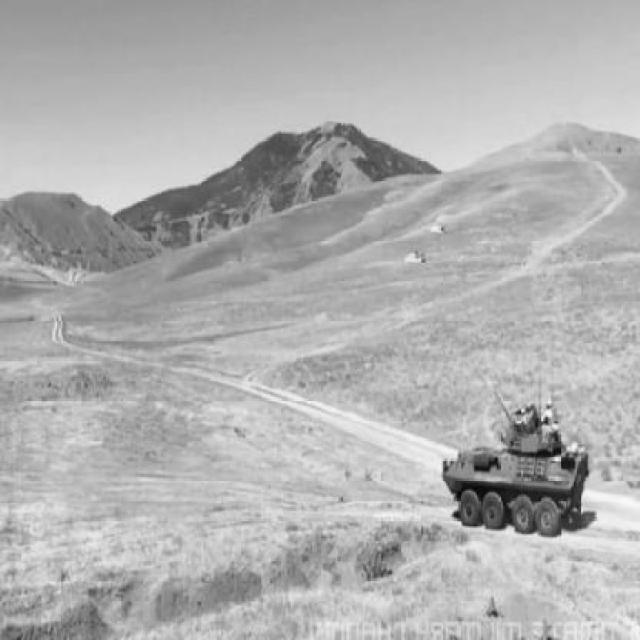Vehicle: (444, 425, 590, 537)
